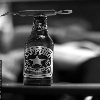beer: (22, 14, 57, 94)
